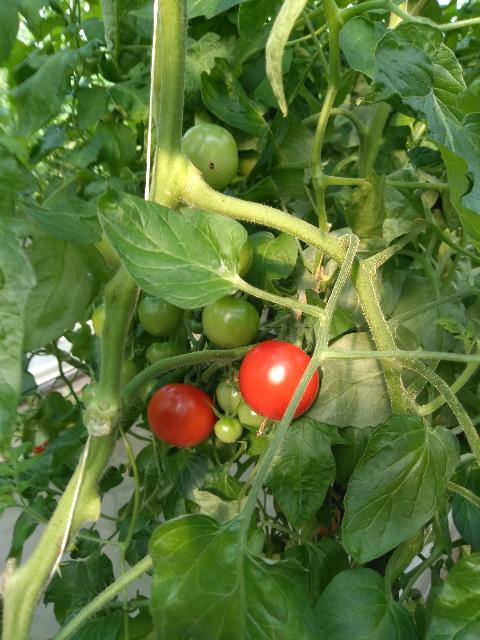l_fully_ripened: (237, 340, 319, 423), (147, 383, 219, 448)
l_green: (181, 123, 240, 190), (202, 295, 260, 348), (138, 295, 185, 337), (215, 370, 244, 416), (237, 402, 273, 429), (213, 416, 243, 442), (147, 342, 180, 364), (121, 358, 139, 391), (82, 383, 99, 407)
